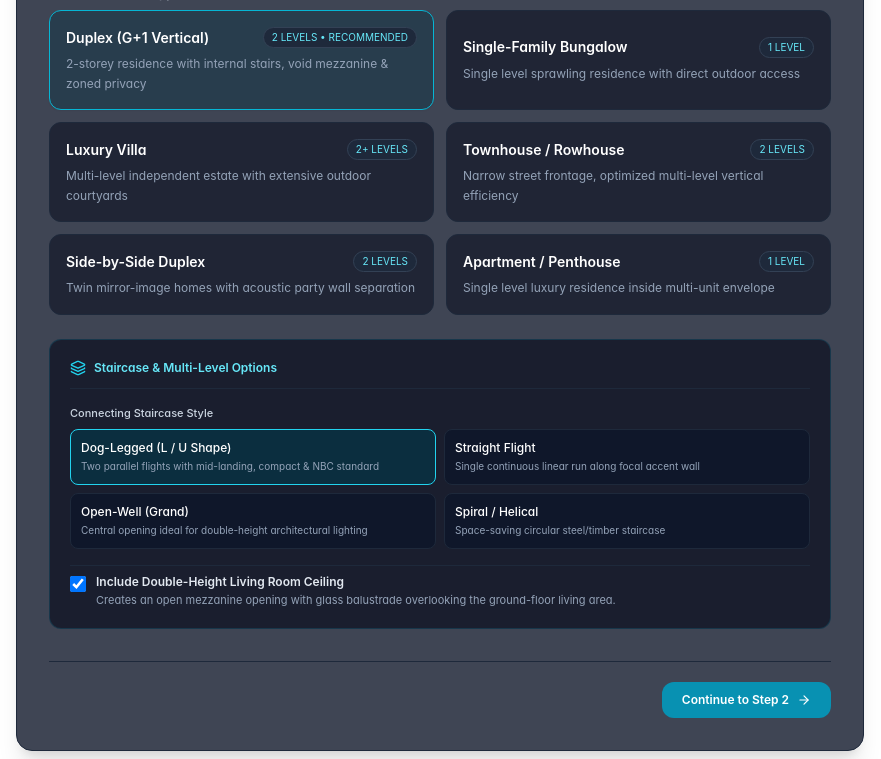
Test: Stage 1.4: Minimalist UI, Beginner-Friendly UX & Consistency › 3. Project Creation Wizard Progressive Disclosure › guides users through 4 clear steps with plain English explanations
(page scrolled)
// Validation on empty title
Click the button "Continue to Step 2" at (746, 700), box [662, 682, 831, 718]
(page scrolled)
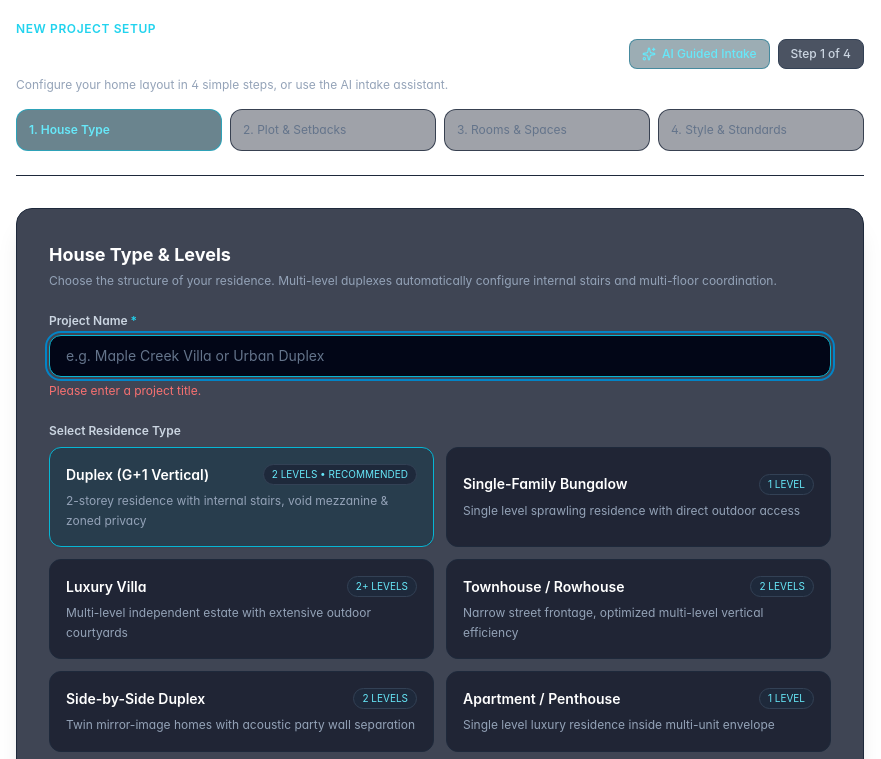
Result: the text "Please enter a project title." is shown at [49, 383, 201, 398]
// Enter project name
Type "My Minimalist Villa" into the field with placeholder "e.g. Maple Creek Villa or Urban Duplex" at (440, 356), box [49, 335, 831, 377]
(page scrolled)
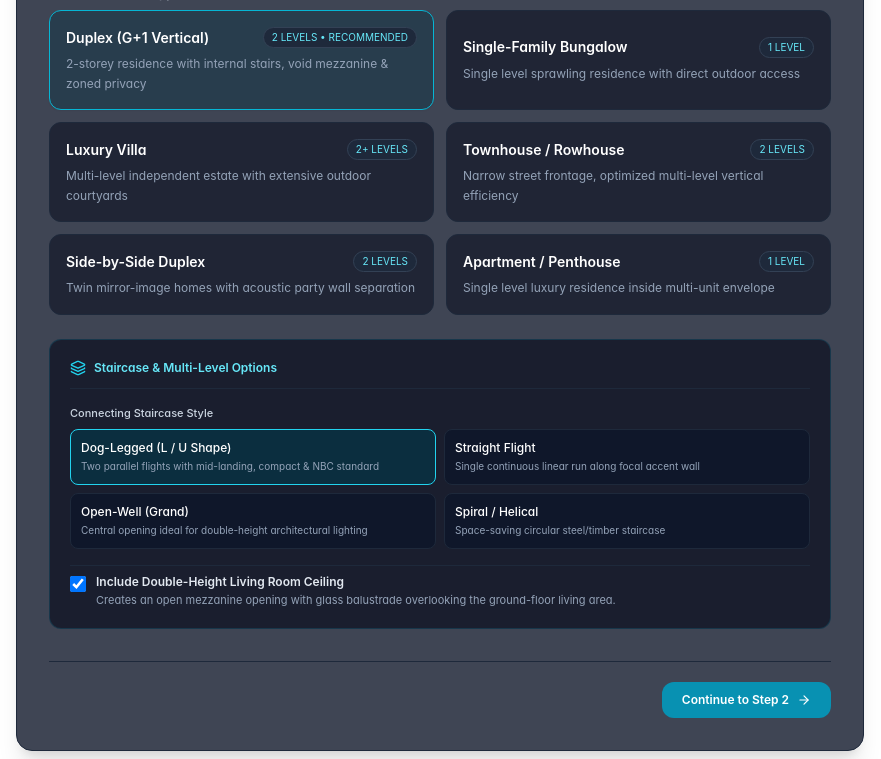
// Advance to Step 2: Plot & Setbacks
Click the button "Continue to Step 2" at (746, 700), box [662, 682, 831, 718]
(page scrolled)
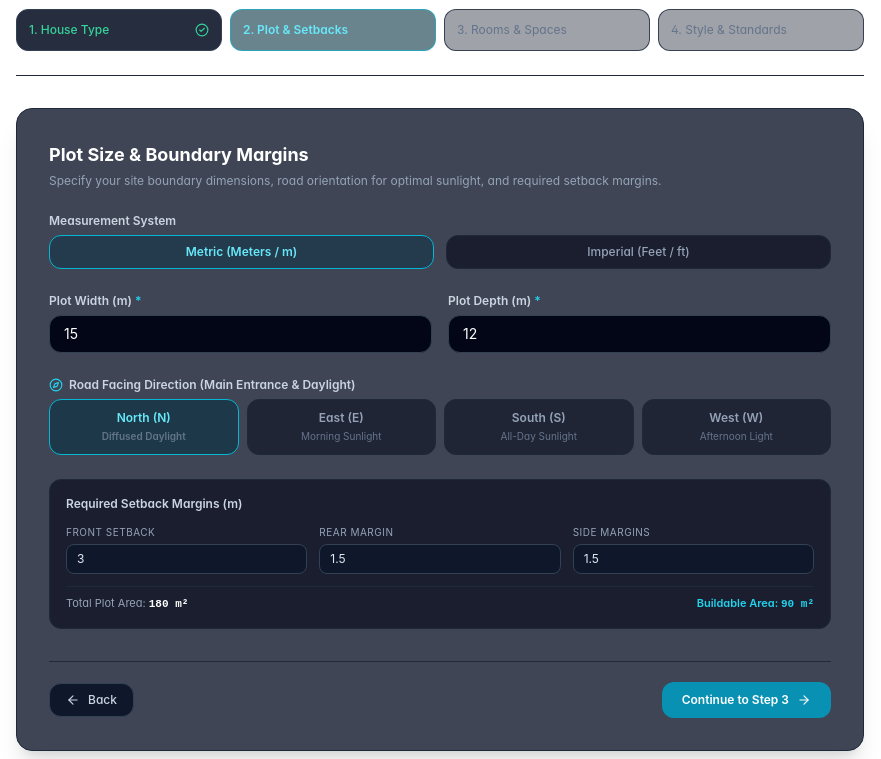
Result: the heading "Plot Size & Boundary Margins" is shown at [49, 144, 309, 165]
Result: the text "Road Facing Direction (Main Entrance & Daylight)" is shown at [69, 377, 356, 393]
Result: the text "Required Setback Margins" is shown at [49, 173, 662, 188]
// Advance to Step 3: Rooms & Spaces
Click the button "Continue to Step 3" at (746, 700), box [662, 682, 831, 718]
(page scrolled)
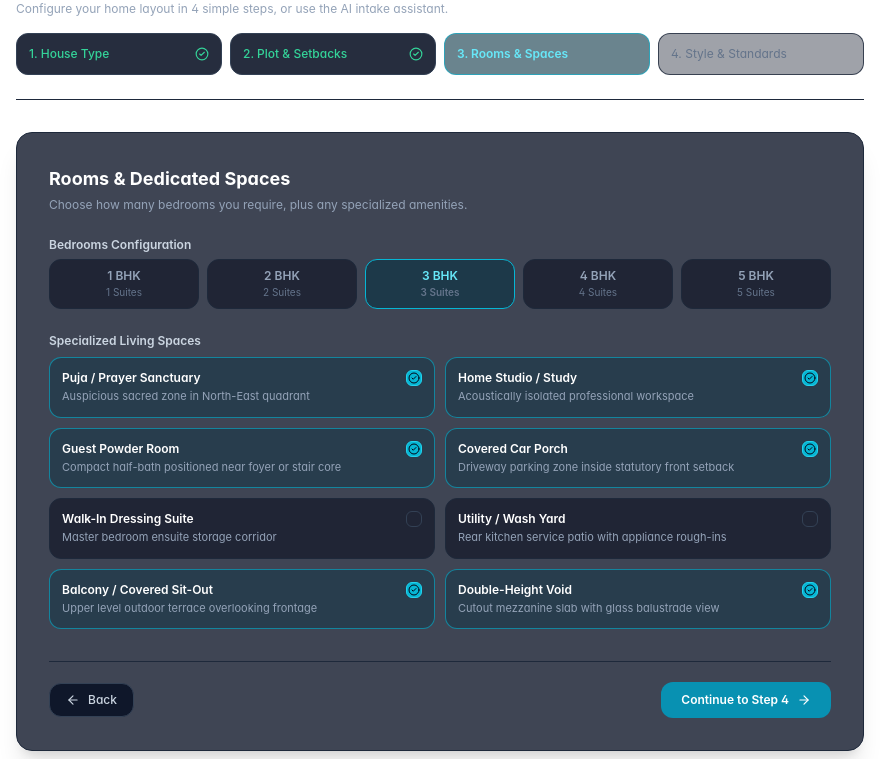
Result: the heading "Rooms & Dedicated Spaces" is shown at [49, 168, 290, 189]
Result: the text "Bedrooms Configuration" is shown at [49, 237, 191, 252]
Result: the text "Specialized Living Spaces" is shown at [49, 333, 201, 348]
// Advance to Step 4: Style & Standards
Click the button "Continue to Step 4" at (746, 700), box [661, 682, 831, 718]
(page scrolled)
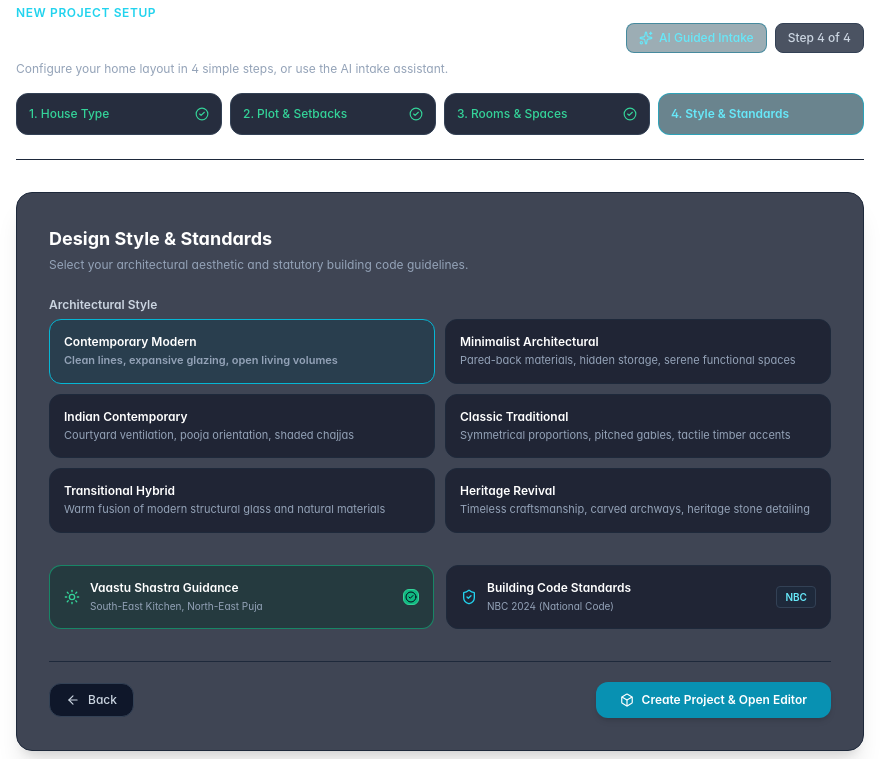
Result: the text "Step 4 of 4" is shown at [775, 23, 864, 53]
Result: the heading "Design Style & Standards" is shown at [49, 228, 272, 249]
Result: the text "Architectural Style" is shown at [49, 297, 157, 312]
// Back navigation
Click the button "Back" at (91, 700), box [49, 682, 134, 716]
(page scrolled)
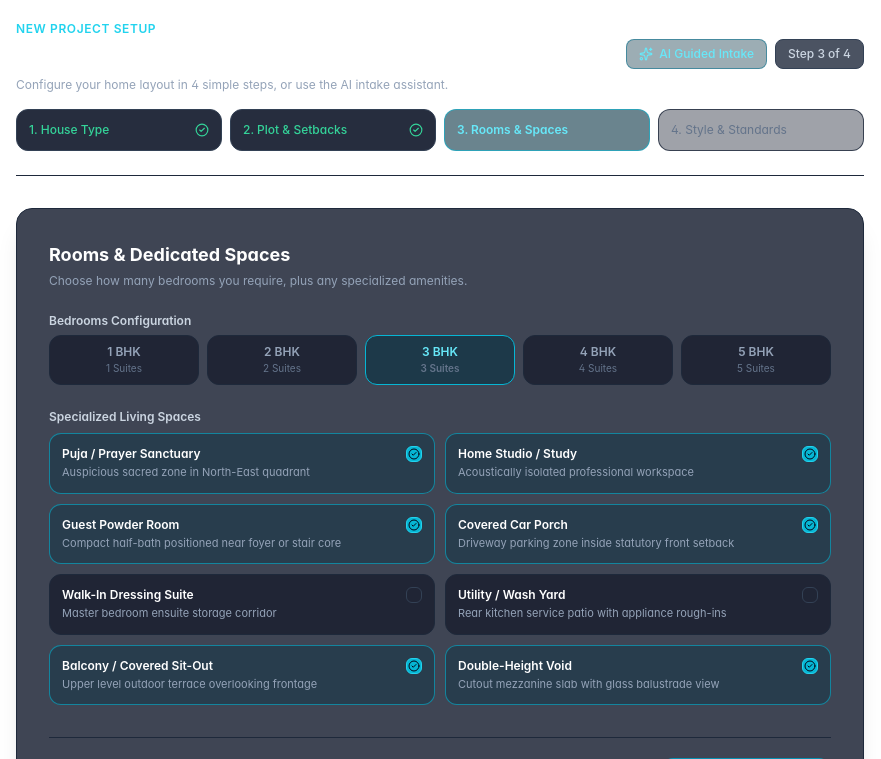
Result: the text "Step 3 of 4" is shown at [775, 39, 864, 69]
